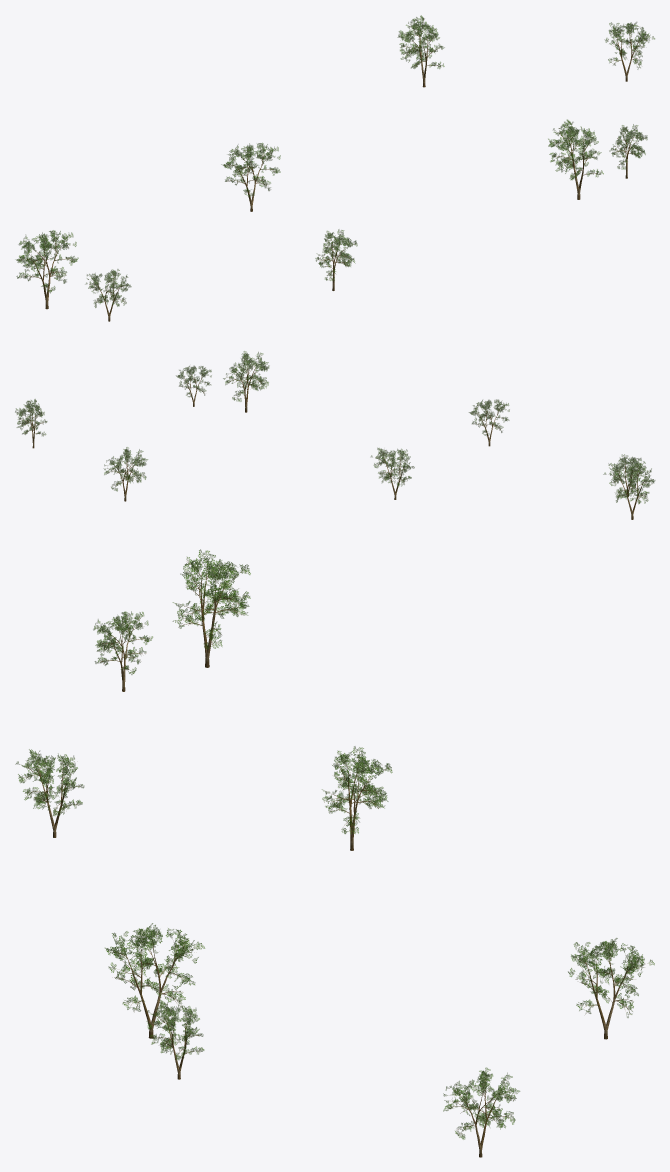
The model's file is Tree2.glb.
3 renders of one model, top to bottom at view 1: azimuth 30°, elevation 25°; view 2: azimuth 150°, elevation 25°; view 3: azimuth 270°, elevation 25°, orthographic. The views are drawn at different scales.
Parts seen in each view (by area): view 1: Tree2; view 2: Tree2; view 3: Tree2.
Part boxes in pixels (x1=…): Tree2: x1=15, y1=15, x2=654, y2=321; Tree2: x1=15, y1=351, x2=655, y2=519; Tree2: x1=15, y1=549, x2=654, y2=1157.
Size of the model in its own units: 38.68 by 4.06 by 20.16.
2 materials, 2 textured.
